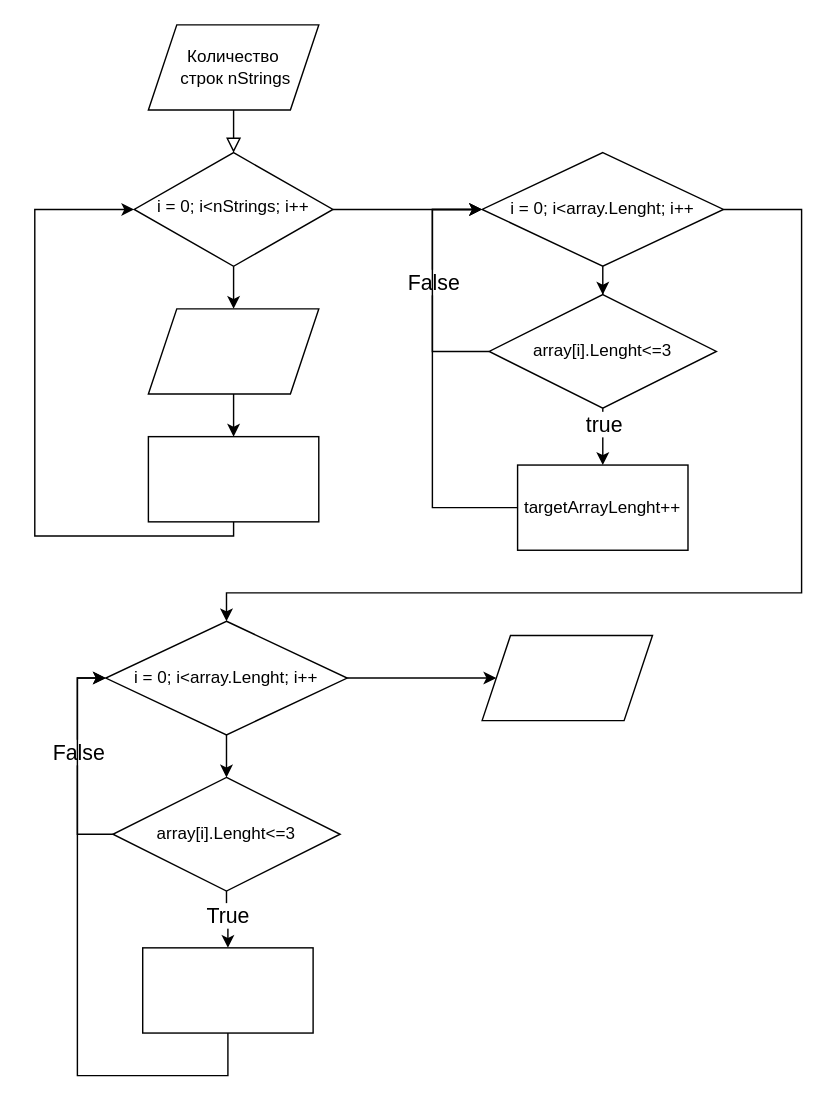
This 838x1112 diagram has some shape labels left out. The centre of each missing label's shape, as x and y in pixels:
"array[i] = string" goes at [233,478].
"sting" goes at [233,350].
"targetArray" goes at [566,677].
"targetArray[j++] = array[i]" goes at [227,989].
